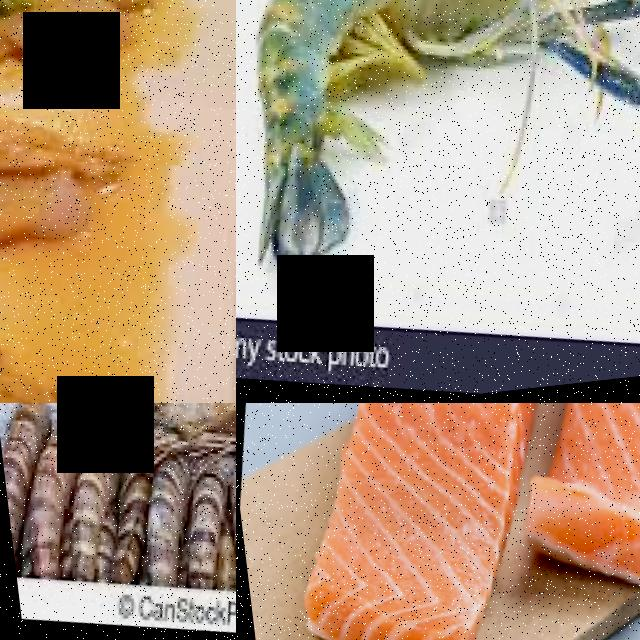salmon: (254, 403, 564, 640), (512, 403, 640, 601)
shrimp: (236, 0, 640, 339), (0, 409, 78, 581), (39, 448, 109, 585), (155, 464, 222, 599), (120, 458, 186, 591), (87, 469, 148, 591), (0, 403, 36, 575), (201, 458, 236, 598)
